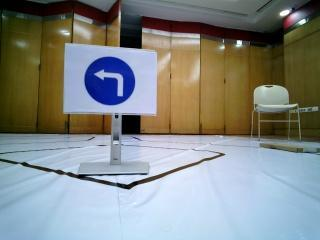left: (73, 55, 148, 110)
